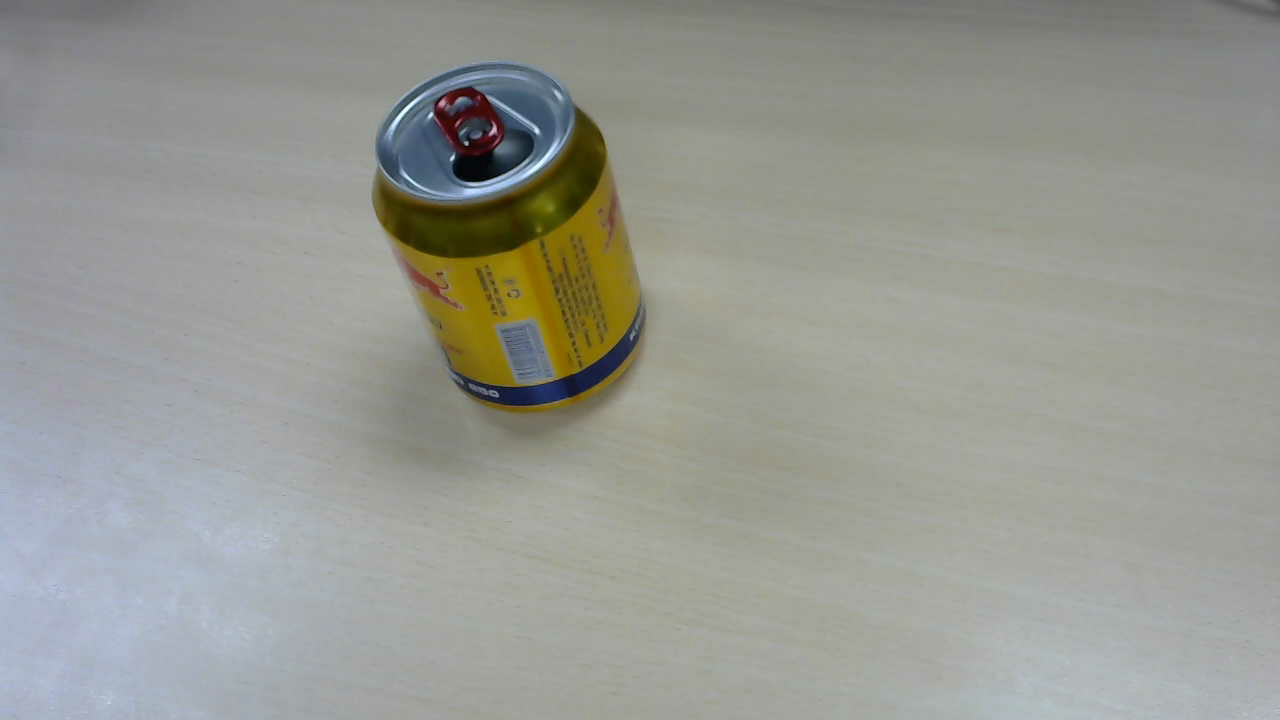Red_Bull: (377, 62, 657, 413)
